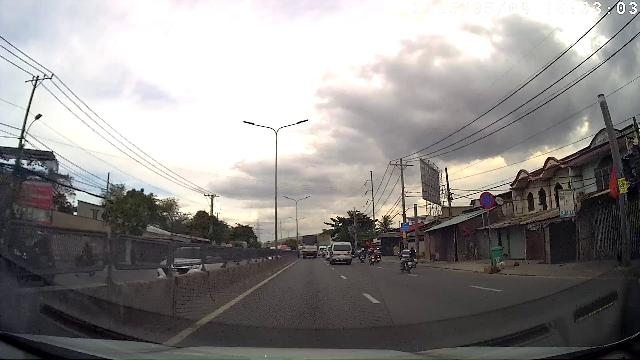130-cam-dung-va-do-xe: (479, 191, 495, 210)
